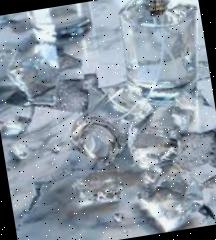glass: (111, 0, 210, 107), (65, 81, 163, 169)
